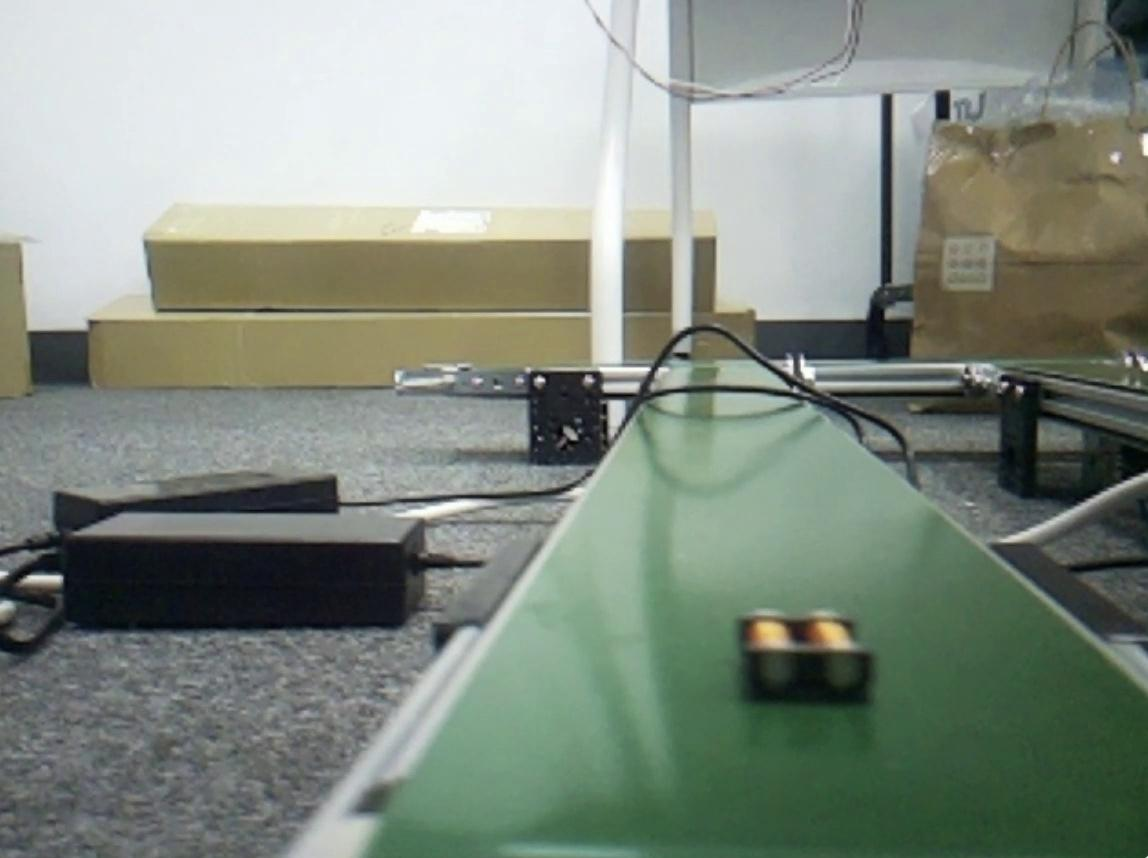inductor: (745, 608, 869, 702)
